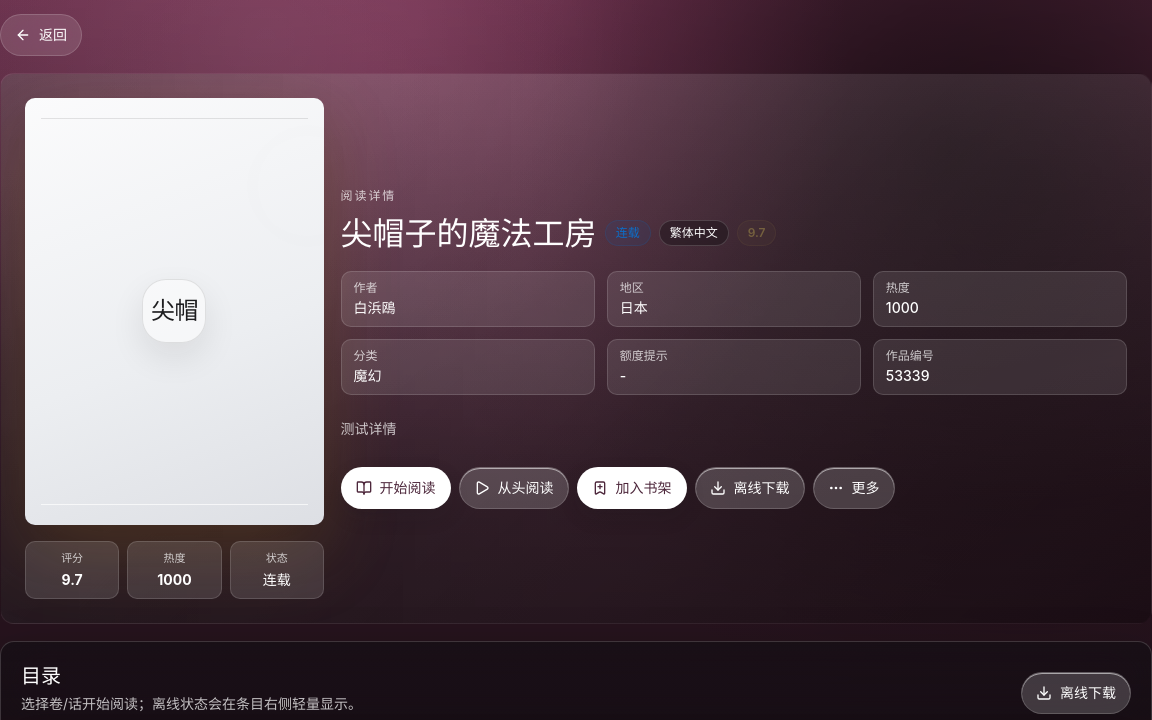
Detail reader entry › shows ordinary explicit download formats before advanced file-only choices
Check: the heading "尖帽子的魔法工房" is shown, box [341, 216, 597, 251]
Click the button "离线下载" below "53339" at (750, 488), box [695, 467, 805, 509]
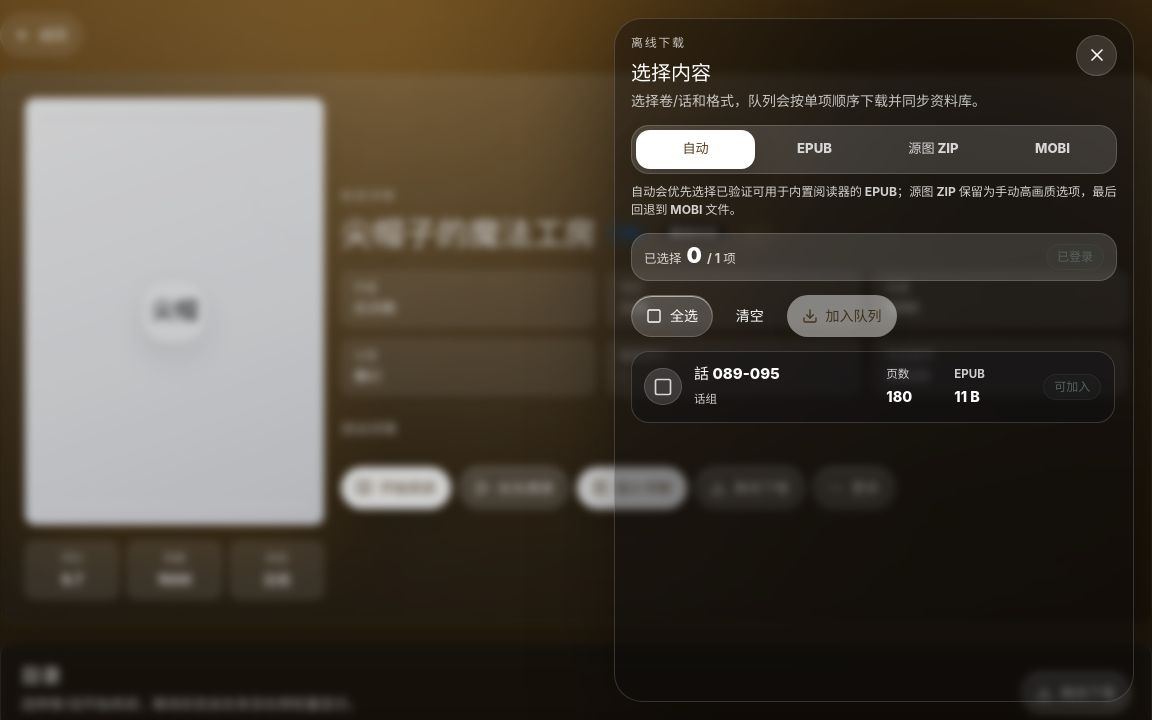
Check: the buttons read "自动", "EPUB", "源图 ZIP", "MOBI", in this order, box [636, 130, 755, 169]; [755, 130, 874, 169]; [874, 130, 993, 169]; [993, 130, 1112, 169]
